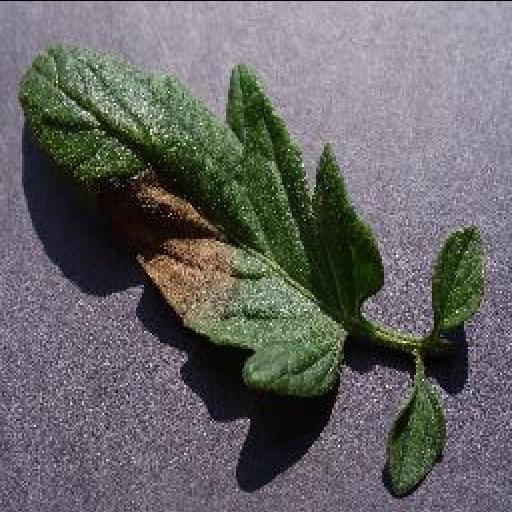disease_tomato: (16, 44, 382, 392)
